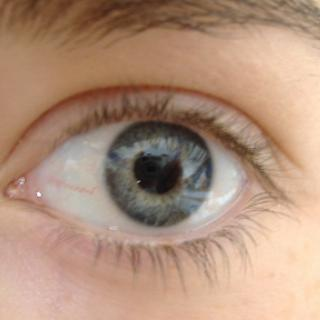pupil: (135, 148, 181, 193)
